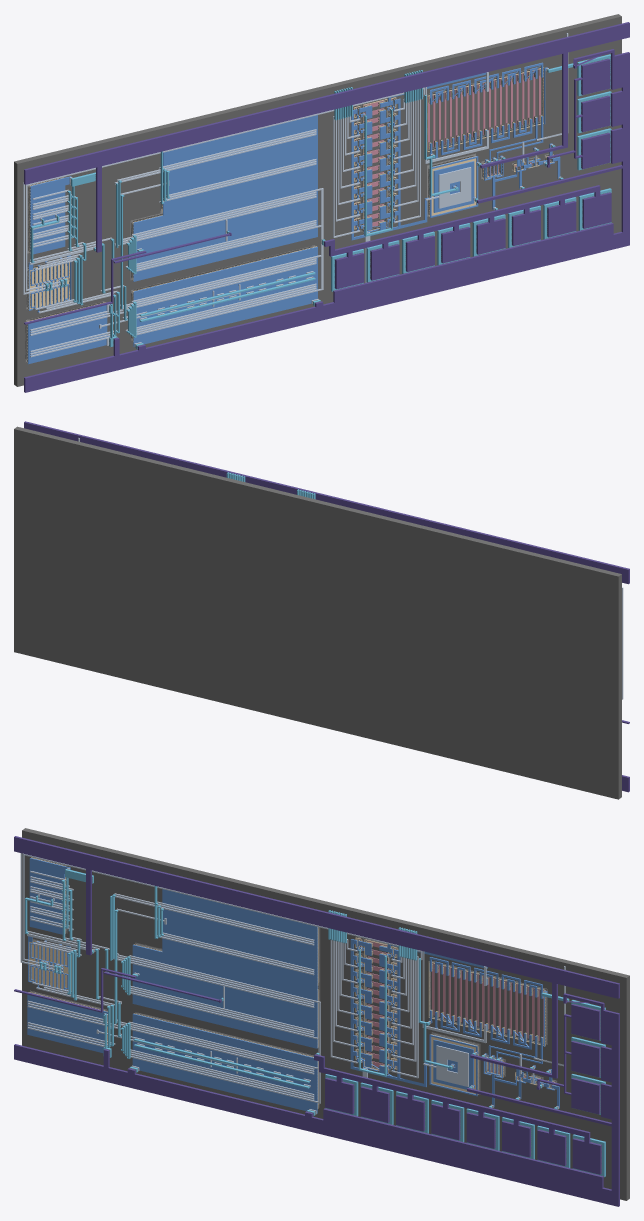
Rendered from bandgap.gds.gltf.
3 views of the same model, one above another, from view 1: azimuth 30°, elevation 25°; view 2: azimuth 150°, elevation 25°; view 3: azimuth 330°, elevation 25° (orthographic).
Parts seen in each view (by area): view 1: bandgap_substrate, bandgap_met4, bg__se_folded_cascode_p_substrate, bg__se_folded_cascode_p_met4, bg__cap_met4 (×11), bgfc__casp_bot_met1, bgfc__casp_top_met1, bgfc__casn_top_met1, bandgap_met1, bgfc__casn_top_met2, bg__res_substrate, bgfc__casp_bot_met2 (+24 smaller); view 2: bandgap_substrate, bg__se_folded_cascode_p_substrate, bg__cap_substrate (×7), bg__se_folded_cascode_p_met4, bandgap_met4, bg__res_substrate; view 3: bandgap_substrate, bandgap_met4, bg__se_folded_cascode_p_substrate, bg__se_folded_cascode_p_met4, bg__cap_met4 (×11), bgfc__casp_bot_met1, bgfc__casp_top_met1, bgfc__casn_top_met1, bg__res_substrate, bandgap_met1, bgfc__casn_top_met2, bgfc__casp_bot_met2 (+26 smaller).
Boxes of the visible parts, x1=… form: bandgap_substrate: x1=14, y1=14, x2=621, y2=386; bandgap_met4: x1=24, y1=22, x2=629, y2=323; bg__se_folded_cascode_p_substrate: x1=14, y1=90, x2=322, y2=386; bg__se_folded_cascode_p_met4: x1=24, y1=96, x2=330, y2=392; bg__cap_met4 (×11): x1=333, y1=57, x2=613, y2=293; bgfc__casp_bot_met1: x1=133, y1=179, x2=317, y2=281; bgfc__casp_top_met1: x1=163, y1=117, x2=317, y2=212; bgfc__casn_top_met1: x1=133, y1=246, x2=317, y2=342; bandgap_met1: x1=351, y1=62, x2=560, y2=240; bgfc__casn_top_met2: x1=125, y1=255, x2=319, y2=335; bg__res_substrate: x1=428, y1=70, x2=541, y2=149; bgfc__casp_bot_met2: x1=123, y1=189, x2=319, y2=271; bandgap_substrate: x1=14, y1=426, x2=621, y2=799; bg__se_folded_cascode_p_substrate: x1=326, y1=507, x2=621, y2=799; bg__cap_substrate (×7): x1=30, y1=464, x2=167, y2=663; bg__se_folded_cascode_p_met4: x1=323, y1=495, x2=629, y2=792; bandgap_met4: x1=24, y1=421, x2=628, y2=723; bg__res_substrate: x1=93, y1=479, x2=209, y2=562; bandgap_substrate: x1=22, y1=828, x2=629, y2=1200; bandgap_met4: x1=14, y1=909, x2=619, y2=1206; bg__se_folded_cascode_p_substrate: x1=22, y1=831, x2=327, y2=1118; bg__se_folded_cascode_p_met4: x1=14, y1=836, x2=319, y2=1133; bg__cap_met4 (×11): x1=323, y1=1004, x2=603, y2=1178; bgfc__casp_bot_met1: x1=132, y1=944, x2=317, y2=1048; bgfc__casp_top_met1: x1=162, y1=890, x2=317, y2=986; bgfc__casn_top_met1: x1=132, y1=1013, x2=317, y2=1109; bg__res_substrate: x1=431, y1=964, x2=546, y2=1044; bandgap_met1: x1=350, y1=944, x2=559, y2=1108; bgfc__casn_top_met2: x1=122, y1=1021, x2=315, y2=1102; bgfc__casp_bot_met2: x1=119, y1=955, x2=316, y2=1039.
Bounding box in the file's own units: 210 × 74.12 × 6.87.
